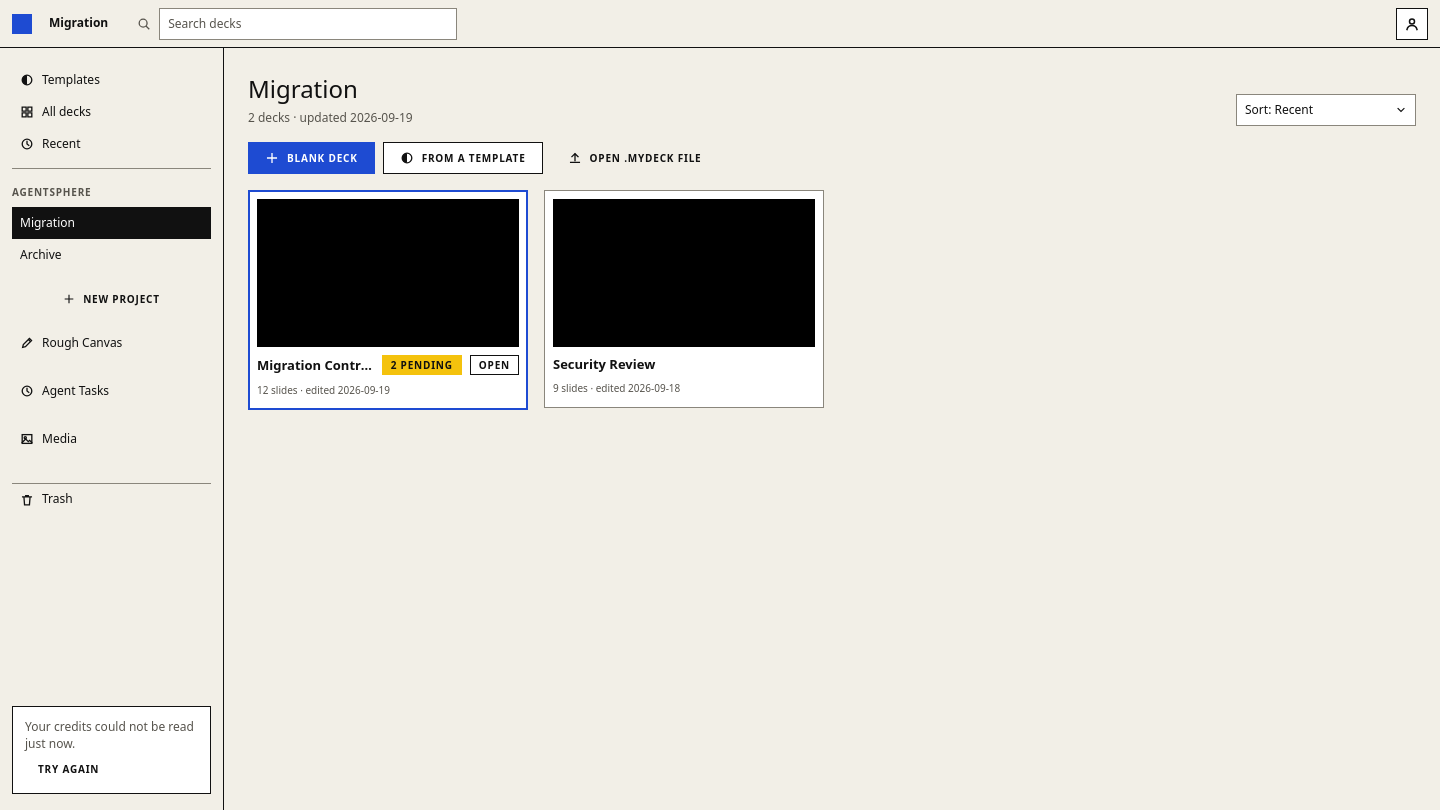
DeckList › lists the trash across projects and restores a deck from it
Click the button with test id "view-trash" at {"x": 112, "y": 499}, box [12, 483, 211, 515]
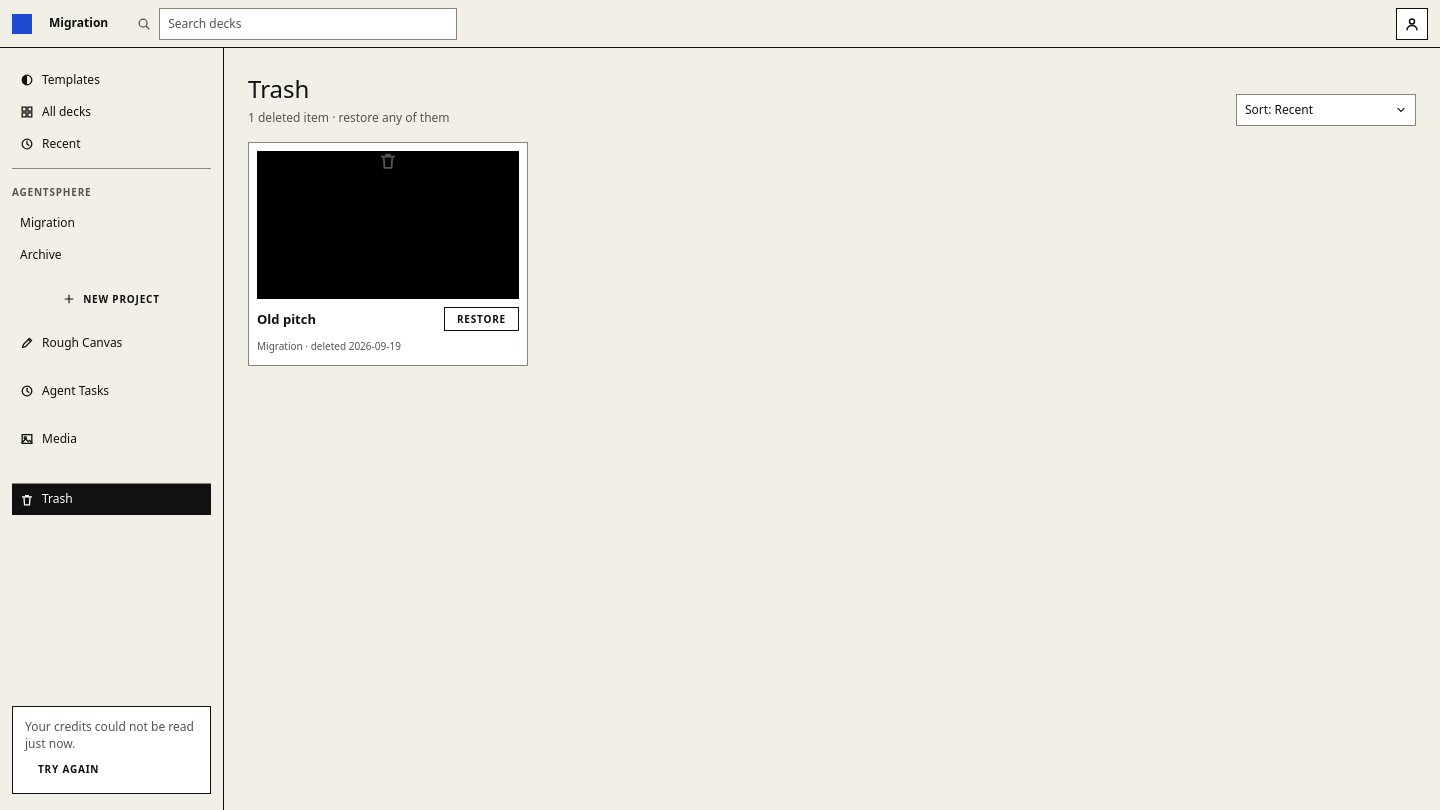
Expected: the text "Migration · deleted 2026-09-19" is shown, [257, 339, 401, 353]
Click the button with test id "restore-deck" at {"x": 481, "y": 319}, box [444, 307, 519, 331]
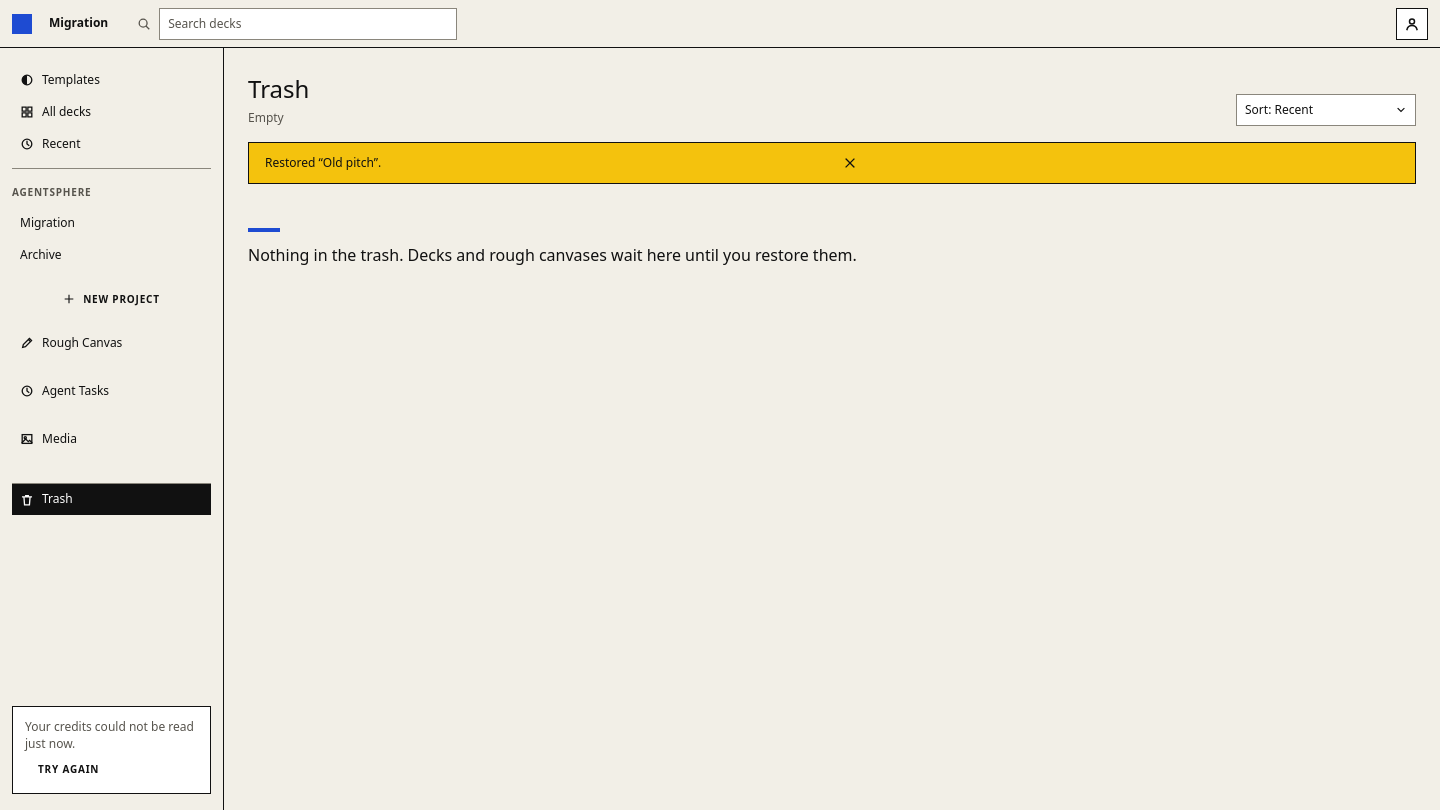
Expected: the element with test id "trash-card" is gone
Expected: the text "Nothing in the trash" is shown, [248, 244, 857, 266]
